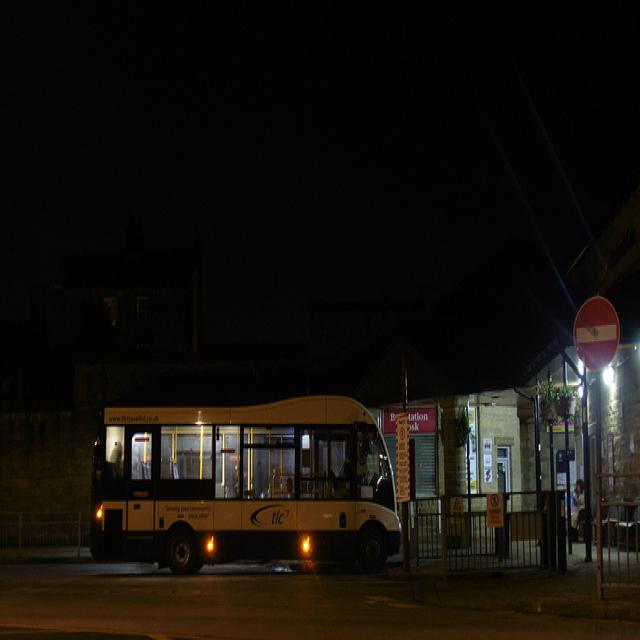Bus: (98, 386, 404, 604)
People: (570, 465, 592, 543)
